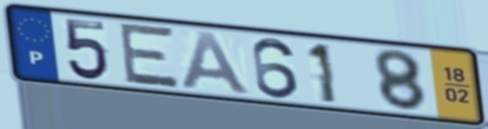1: (305, 41, 341, 105)
5: (63, 17, 109, 81)
6: (249, 35, 301, 101)
8: (372, 47, 430, 114)
A: (179, 28, 255, 98)
E: (118, 21, 183, 91)
